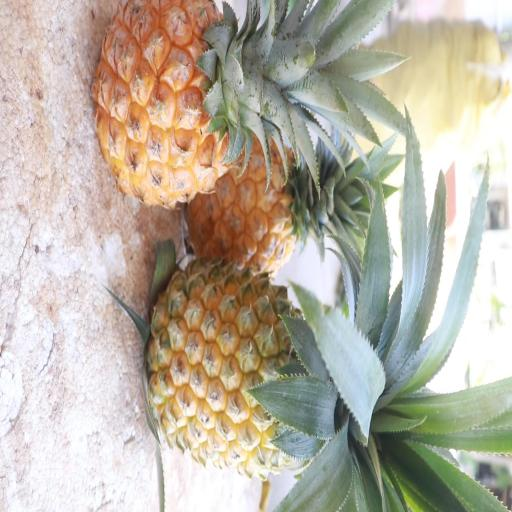Pineapple - v8 v1: (144, 269, 418, 485), (88, 1, 327, 223), (180, 126, 348, 290)
